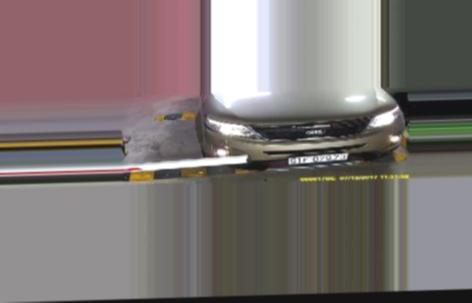License_Plate: (287, 152, 350, 164)
